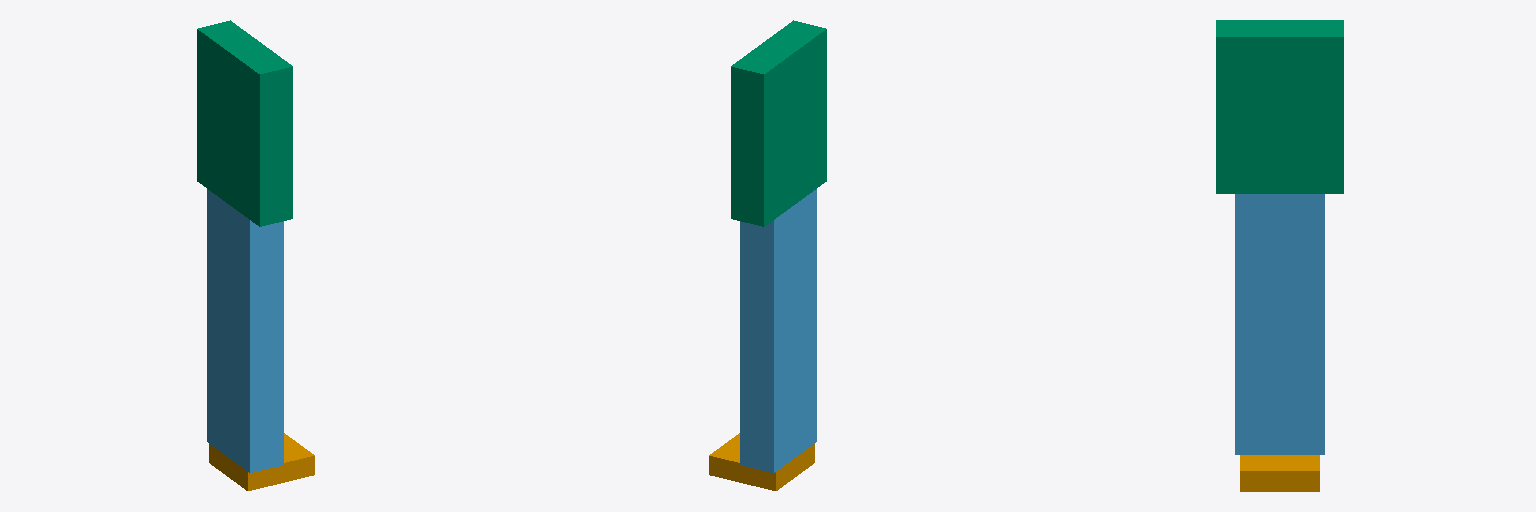
URDF robot description (threeLinkHuman_subject3):
<robot name="threeLinkHuman_subject3">
    <link name="foot">
        <inertial>
            <mass value="4.754"/>
            <origin xyz="0 0 0.031118" rpy="0 0 0" />
            <inertia ixx="0.021537" iyy="0.021203" izz="0.039671" ixy="0" ixz="0" iyz="0"/>
        </inertial>

        <visual>
			<origin xyz="0 0 0.031118" rpy="0 0 0" />
            <geometry>
                <box size="0.22282 0.2247 0.062237"/>
            </geometry>
        </visual>

        <collision>
			<origin xyz="0 0 0.031118" rpy="0 0 0" />
            <geometry>
                <box size="0.22282 0.2247 0.062237"/>
            </geometry>
        </collision>
    </link>
    
    <link name="leg">
        <inertial>
            <mass value="34.1044"/>
            <origin xyz="0 0 0.40186" rpy="0 0 0" />
            <inertia ixx="2.013" iyy="1.8711" izz="0.2124" ixy="0" ixz="0" iyz="0"/>
        </inertial>

        <visual>
            <origin xyz="0 0 0.40186" rpy="0 0 0" />
            <geometry>
                <box size="0.11141 0.24965 0.80372"/>
            </geometry>
        </visual>

        <collision>
            <origin xyz="0 0 0.40186" rpy="0 0 0" />
            <geometry>
                <box size="0.11141 0.24965 0.80372"/>
            </geometry>
        </collision>
    </link>
    
    <link name="torso">
        <inertial>
            <mass value="29.642"/>
            <origin xyz="0 0 0.24175" rpy="0 0 0" />
            <inertia ixx="0.89882" iyy="0.60813" izz="0.35201" ixy="0" ixz="0" iyz="0"/>
        </inertial>

        <visual>
            <origin xyz="0 0 0.24175" rpy="0 0 0" />
            <geometry>
                <box size="0.11141 0.36068 0.48351"/>
            </geometry>
        </visual>

        <collision>
            <origin xyz="0 0 0.24175" rpy="0 0 0" />
            <geometry>
                <box size="0.11141 0.36068 0.48351"/>
            </geometry>
        </collision>
    </link>
        
    <joint name="ankle" type="revolute">
        <origin xyz="-0.055704 0 0.062237" rpy="0 0 0"/>
        <parent link="foot"/>
        <child link="leg"/>
        <dynamics damping="0.1" friction="0.0"/>
        <limit effort="30" velocity="1.0" lower="-10.0" upper="10.0" />
        <axis xyz="0 1 0" />
    </joint>
    
    <joint name="hip" type="revolute">
        <origin xyz="0 0 0.80372" rpy="0 0 0"/>
        <parent link="leg"/>
        <child link="torso"/>
        <dynamics damping="0.1" friction="0.0"/>
        <limit effort="30" velocity="1.0" lower="-10.0" upper="10.0" />
        <axis xyz="0 1 0" />
    </joint>

</robot>

--- Facts derived from the render (not from the file) ---
Views: 3 orthographic renders of the robot side by side, from view 1: azimuth 30°, elevation 25°; view 2: azimuth 150°, elevation 25°; view 3: azimuth 270°, elevation 25°.
Model threeLinkHuman_subject3 with 3 links and 2 joints (2 revolute), rooted at foot, posed every joint at zero.
Visible links, largest first — view 1: leg, torso, foot; view 2: leg, torso, foot; view 3: leg, torso, foot.
Link boxes in pixels (bbox=[...]): leg: bbox=[207, 189, 283, 472]; torso: bbox=[197, 20, 292, 226]; foot: bbox=[209, 433, 314, 490]; leg: bbox=[740, 189, 816, 472]; torso: bbox=[731, 20, 826, 226]; foot: bbox=[709, 433, 814, 490]; leg: bbox=[1235, 194, 1324, 454]; torso: bbox=[1216, 20, 1343, 193]; foot: bbox=[1240, 455, 1319, 491].
Size in the robot's own frame: 0.2228 by 0.3607 by 1.35 metres.
Geometry: primitives only (box / cylinder / sphere), no mesh files.
